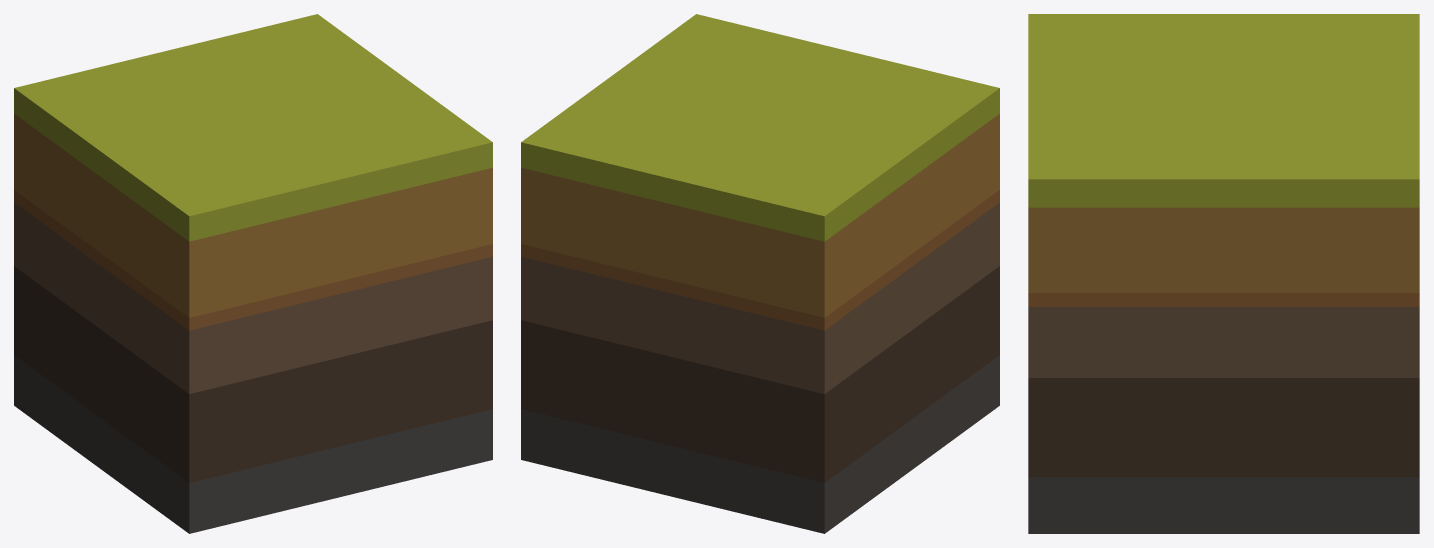
Rendered from Voxels-36.obj.
3 renders of one model, left to right at view 1: azimuth 30°, elevation 25°; view 2: azimuth 150°, elevation 25°; view 3: azimuth 270°, elevation 25°, orthographic. The views are drawn at different scales.
Parts seen in each view (by area): view 1: Voxels-36; view 2: Voxels-36; view 3: Voxels-36.
Part boxes in pixels (left/top/right/bottom): Voxels-36: left=14, top=14, right=492, bottom=533; Voxels-36: left=521, top=14, right=999, bottom=533; Voxels-36: left=1028, top=14, right=1419, bottom=533.
Size of the model in its own units: 25 by 25 by 25.
Materials: 1 (1 with a texture image).
